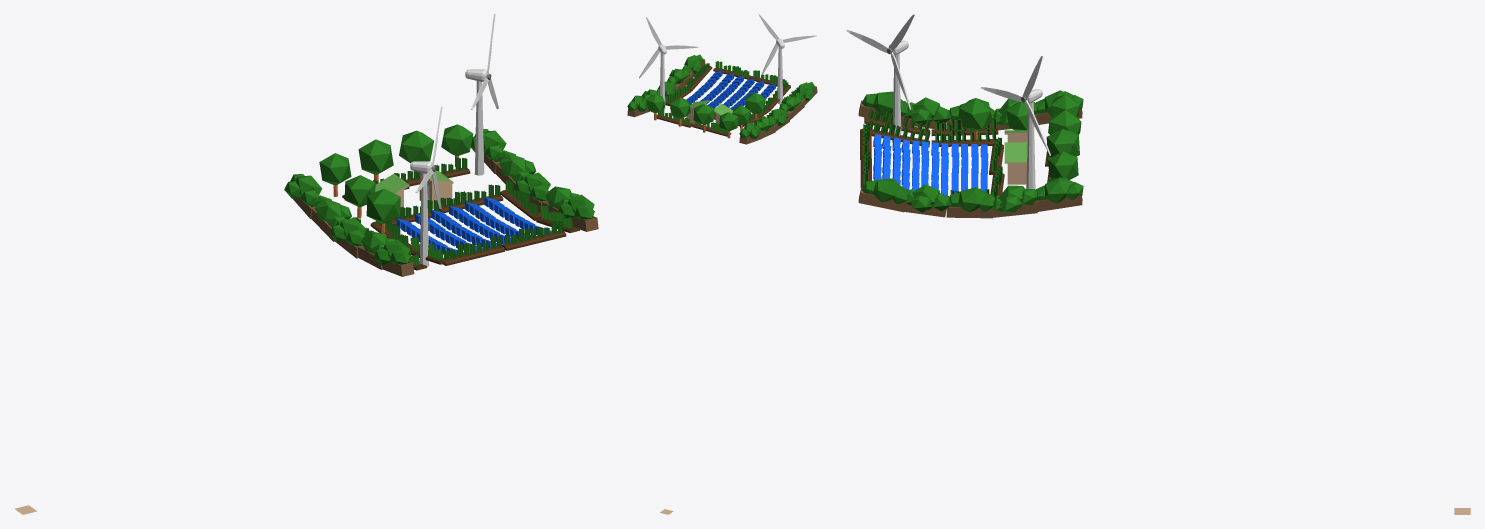
Rendered from solution_10_green_roof.fbx.
3 renders of one model, left to right at view 1: azimuth 30°, elevation 25°; view 2: azimuth 150°, elevation 25°; view 3: azimuth 270°, elevation 25°, orthographic. The views are drawn at different scales.
Visible parts, largest first — view 1: solution_10_green_roof; view 2: solution_10_green_roof; view 3: solution_10_green_roof.
Part boxes in pixels (left/top/right/bottom): solution_10_green_roof: left=14, top=14, right=598, bottom=514; solution_10_green_roof: left=627, top=14, right=817, bottom=514; solution_10_green_roof: left=846, top=14, right=1470, bottom=514.
Size of the model in its own units: 3825 by 7718 by 7611.
